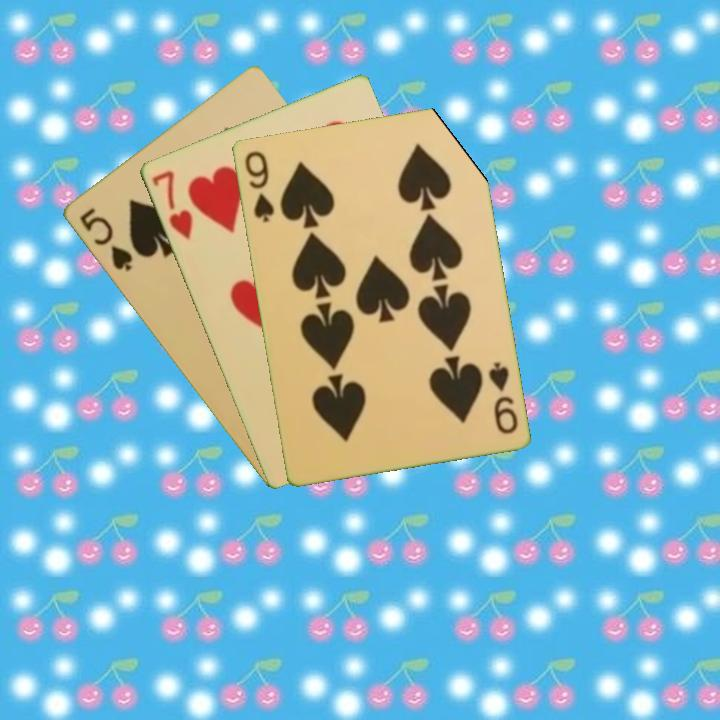5s: (75, 204, 135, 274)
7h: (147, 166, 195, 243)
9s: (240, 147, 277, 225), (484, 358, 520, 437)
